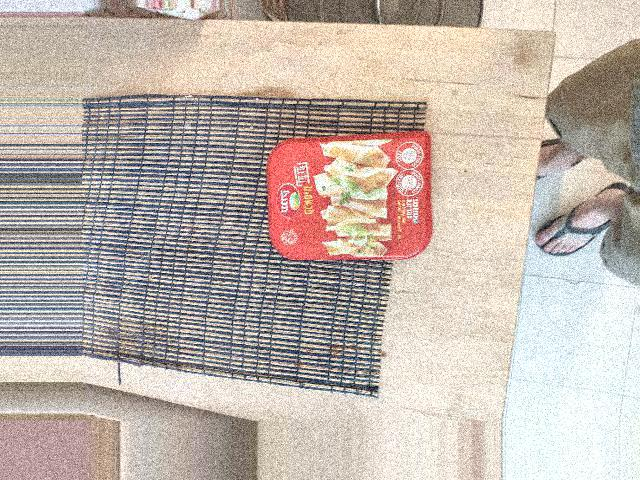cheese: (237, 203, 371, 373)
